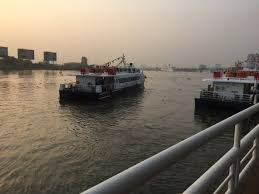tau_dansu: (190, 56, 259, 110), (63, 61, 156, 101)
